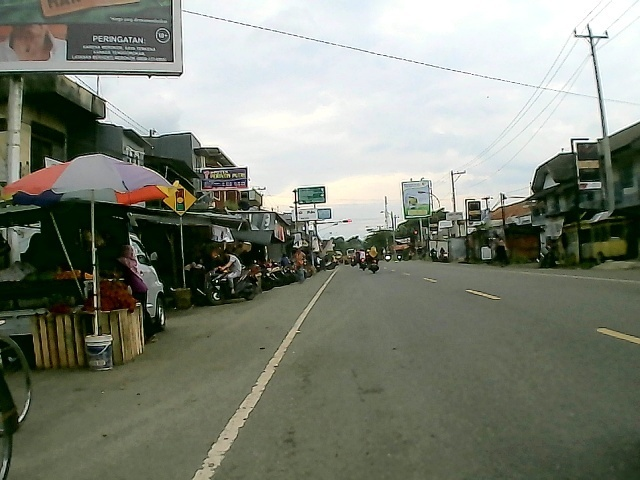Lampu isyarat: (160, 181, 201, 217)
